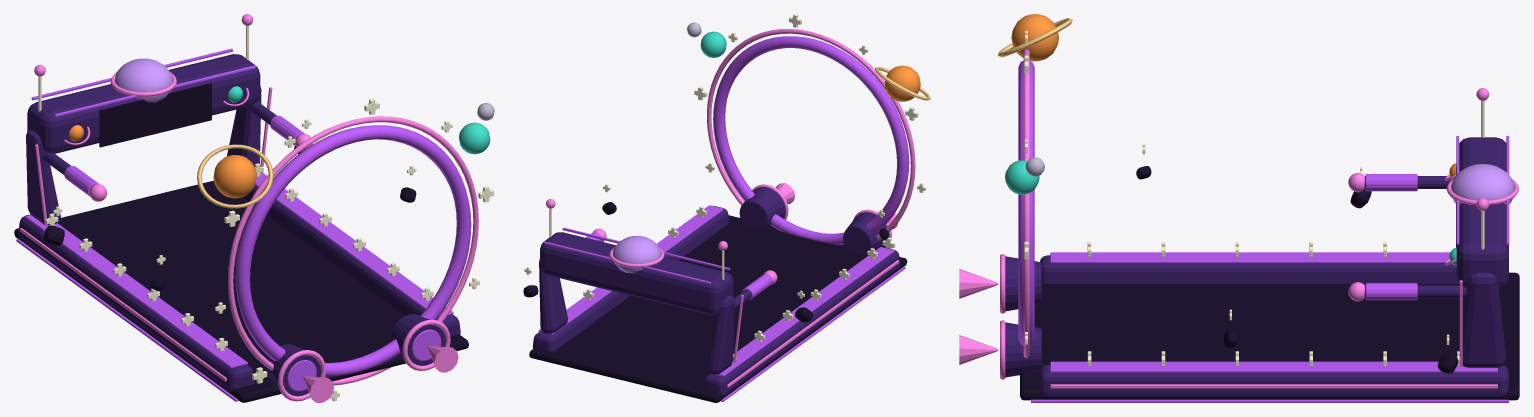
Rendered from Treadmill_Cosmique.fbx.
3 renders of one model, left to right at view 1: azimuth 30°, elevation 25°; view 2: azimuth 150°, elevation 25°; view 3: azimuth 270°, elevation 25°, orthographic. The views are drawn at different scales.
Parts seen in each view (by area): view 1: Void, Purple, Glow.003, Pink, Star, Dome, PlanetOrange, SaturnRing, PlanetTeal; view 2: Void, Purple, Glow.003, Pink, Star, Dome, PlanetOrange, PlanetTeal, SaturnRing; view 3: Void, Purple, Glow.003, Pink, Dome, PlanetOrange, Star, PlanetTeal, SaturnRing.
Part boxes in pixels (bbox=[...]): Void: bbox=[14, 83, 468, 402]; Purple: bbox=[18, 54, 460, 396]; Glow.003: bbox=[16, 48, 471, 401]; Pink: bbox=[20, 14, 478, 402]; Star: bbox=[38, 25, 493, 401]; Dome: bbox=[114, 58, 172, 102]; PlanetOrange: bbox=[69, 125, 256, 198]; SaturnRing: bbox=[197, 144, 273, 208]; PlanetTeal: bbox=[228, 86, 490, 154]; Void: bbox=[523, 202, 907, 402]; Purple: bbox=[532, 187, 900, 395]; Glow.003: bbox=[538, 36, 909, 401]; Pink: bbox=[546, 29, 915, 387]; Star: bbox=[524, 14, 926, 362]; Dome: bbox=[612, 236, 660, 272]; PlanetOrange: bbox=[884, 65, 920, 101]; PlanetTeal: bbox=[700, 31, 726, 57]; SaturnRing: bbox=[875, 67, 930, 100]; Void: bbox=[1020, 166, 1519, 400]; Purple: bbox=[1005, 137, 1508, 396]; Glow.003: bbox=[1018, 61, 1509, 402]; Pink: bbox=[959, 49, 1518, 388]; Dome: bbox=[1451, 164, 1514, 204]; PlanetOrange: bbox=[1011, 14, 1456, 179]; Star: bbox=[1024, 31, 1484, 366]; PlanetTeal: bbox=[1005, 160, 1456, 265]; SaturnRing: bbox=[997, 18, 1072, 57].
Bounding box in the file's own units: 17.99 × 16.14 × 25.8.
